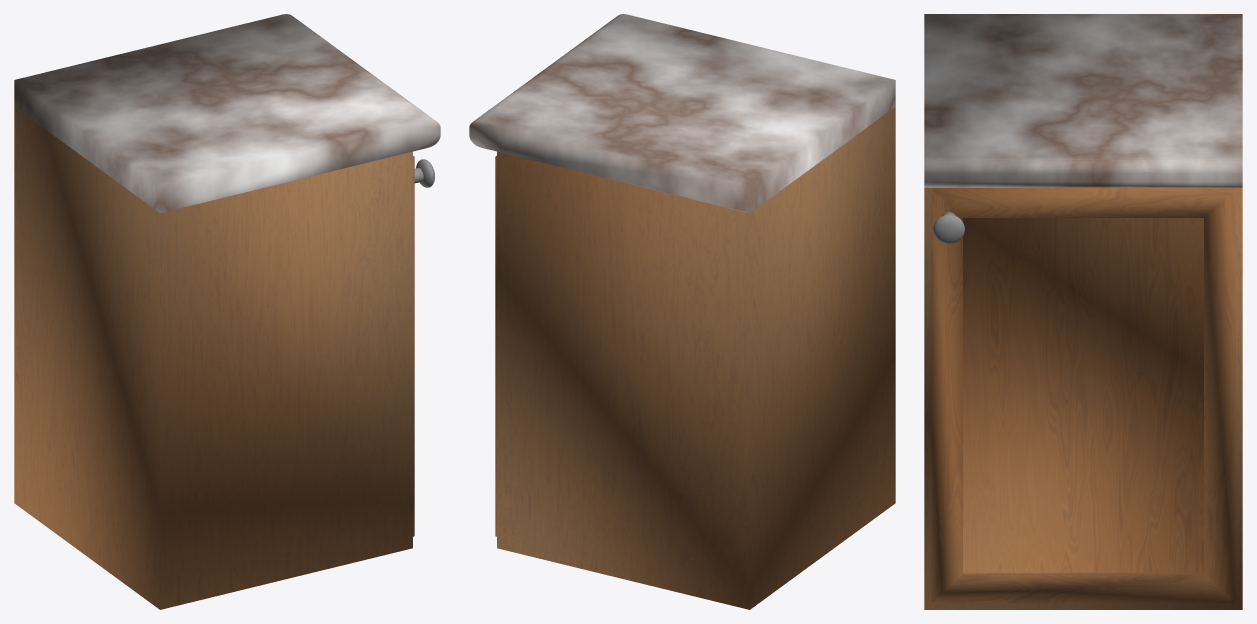
The model's file is CounterCabinet_solo-single-left.glb.
3 renders of one model, left to right at view 1: azimuth 30°, elevation 25°; view 2: azimuth 150°, elevation 25°; view 3: azimuth 270°, elevation 25°, orthographic. The views are drawn at different scales.
Visible parts, largest first — view 1: mesh; view 2: mesh; view 3: mesh.
Part boxes in pixels (x1,y1,x2,y2): mesh: (14, 14, 440, 609); mesh: (469, 14, 895, 609); mesh: (924, 14, 1242, 609).
Size of the model in its own units: 2.24 by 3.2 by 2.
1 material, 1 textured.
